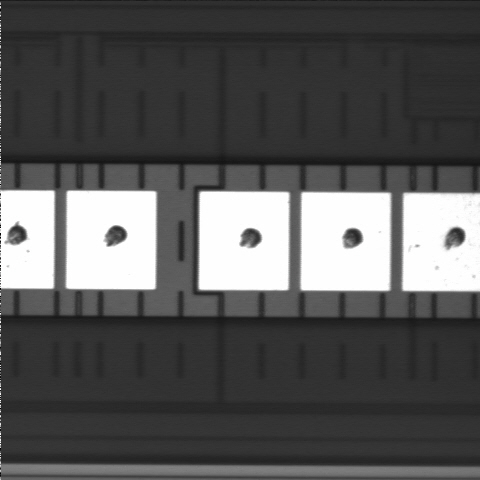pad: (301, 192, 391, 291), (66, 191, 156, 289), (199, 192, 289, 290)
